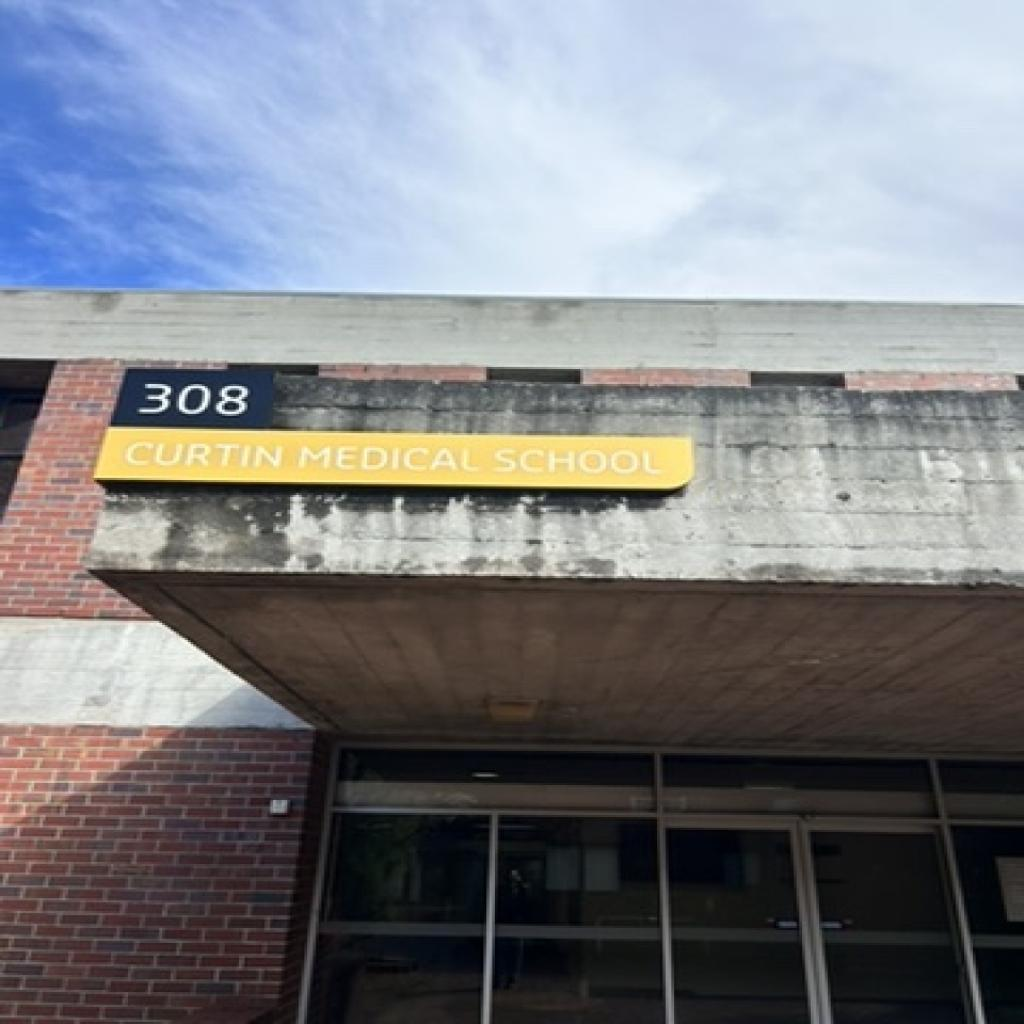BuildingCodes: (136, 380, 252, 420)
